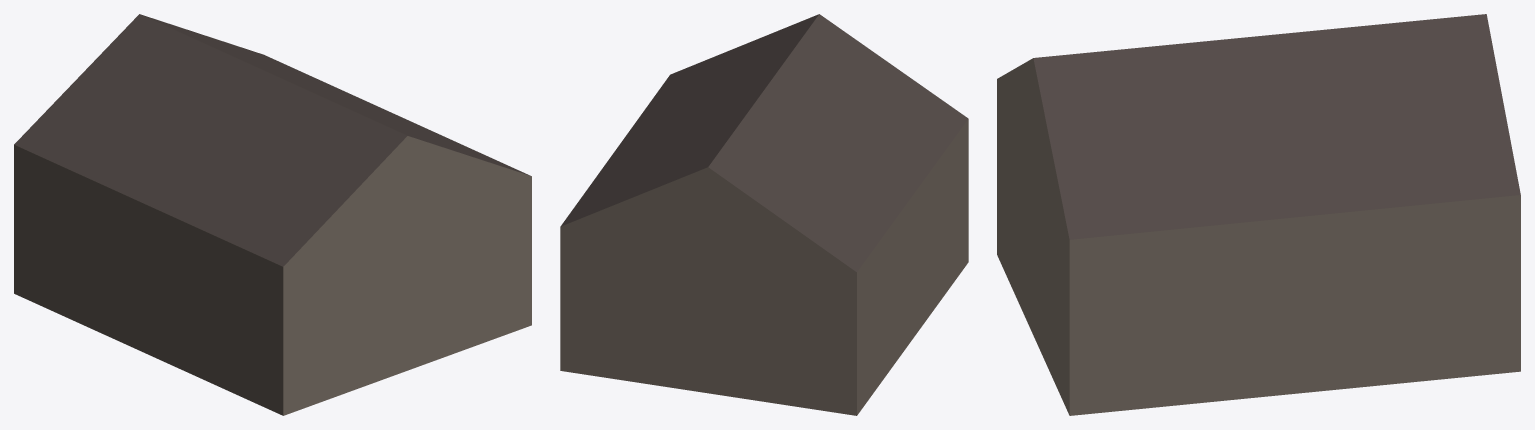
3 views of the same model, side by side, from view 1: azimuth 30°, elevation 25°; view 2: azimuth 150°, elevation 25°; view 3: azimuth 270°, elevation 25° (orthographic). The views are drawn at different scales.
Visible parts, largest first — view 1: HP-w378107227; view 2: HP-w378107227; view 3: HP-w378107227.
Part boxes in pixels (x1=…): HP-w378107227: x1=14, y1=14, x2=531, y2=415; HP-w378107227: x1=560, y1=14, x2=968, y2=415; HP-w378107227: x1=997, y1=14, x2=1520, y2=415.
Size of the model in its own units: 15 by 9.46 by 16.18.
